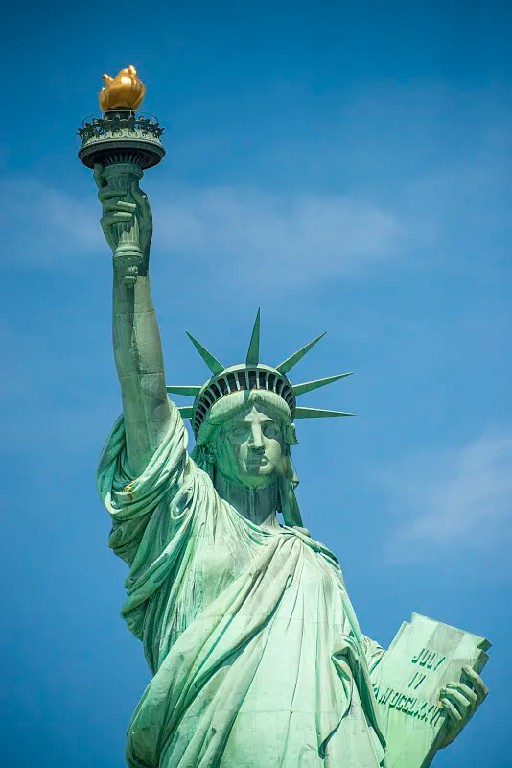SL: (76, 65, 492, 768)
